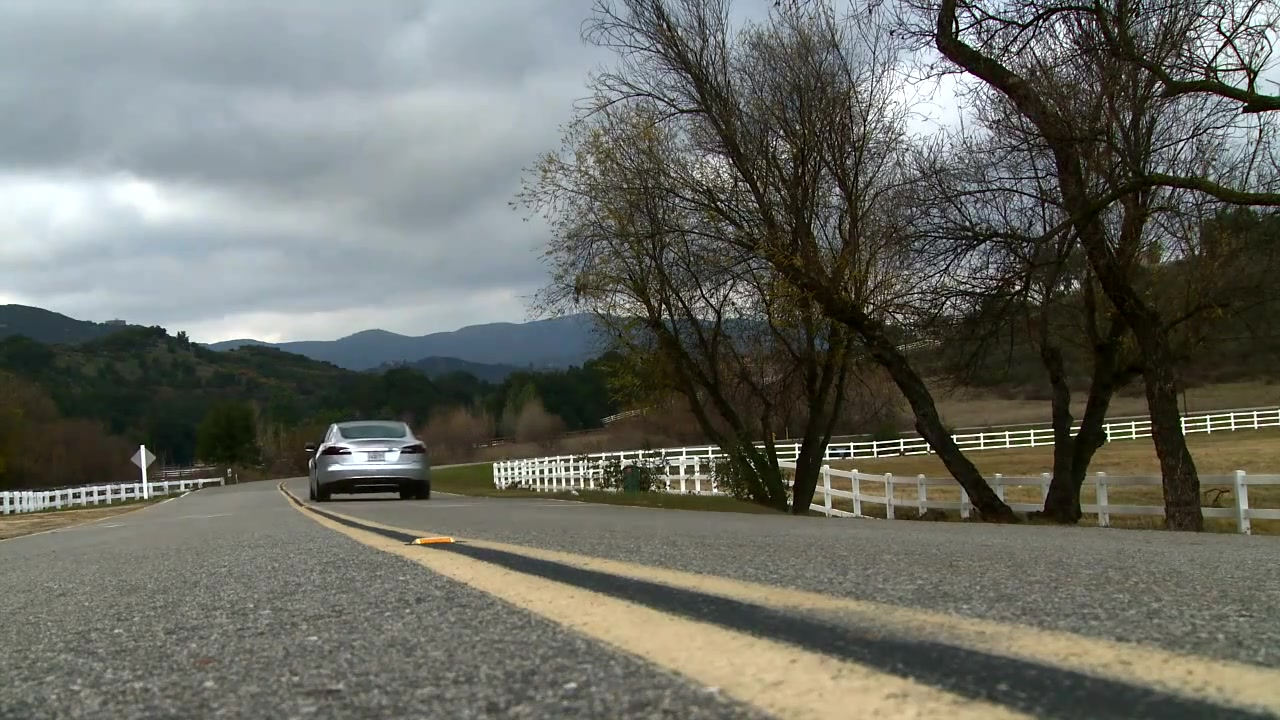car: (297, 421, 437, 504)
